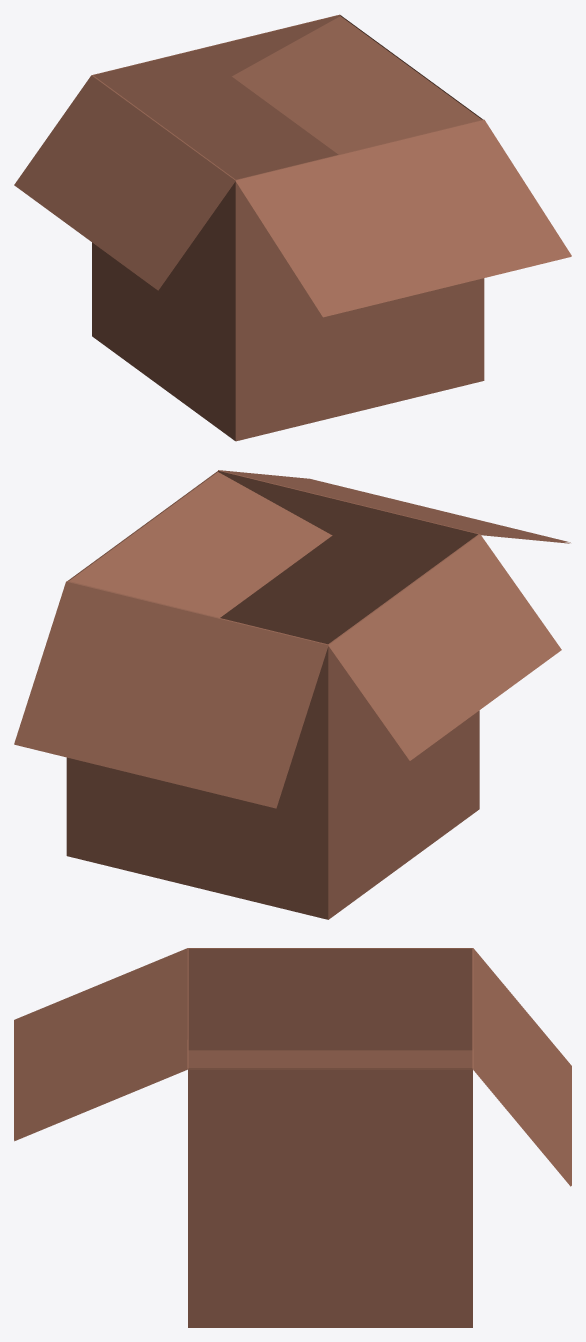
The model's file is Caja.FBX.
The picture shows the model from 3 angles, top to bottom: view 1: azimuth 30°, elevation 25°; view 2: azimuth 150°, elevation 25°; view 3: azimuth 270°, elevation 25°; orthographic projection. The views are drawn at different scales.
Visible parts, largest first — view 1: Caja; view 2: Caja; view 3: Caja.
Part boxes in pixels (x1,y1,x2,y2): Caja: (14, 14, 571, 441); Caja: (14, 470, 570, 919); Caja: (14, 948, 571, 1327).
Bounding box in the file's own units: 65.7 × 97.87 × 50.18.
